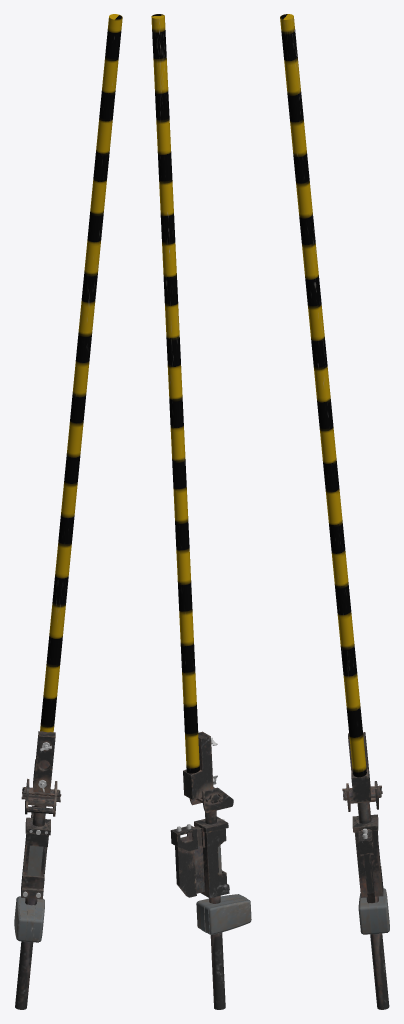
File: Gate2.obj
3 renders of one model, left to right at view 1: azimuth 90°, elevation 25°; view 2: azimuth 210°, elevation 25°; view 3: azimuth 270°, elevation 25°, orthographic. The views are drawn at different scales.
Parts seen in each view (by area): view 1: Gate2; view 2: Gate2; view 3: Gate2.
Part boxes in pixels (x1,y1,x2,y2): Gate2: [14, 14, 122, 1009]; Gate2: [151, 14, 251, 1009]; Gate2: [280, 14, 389, 1009].
Bounding box in the file's own units: 0.5431 × 7.33 × 0.7308.
1 material, 1 textured.
